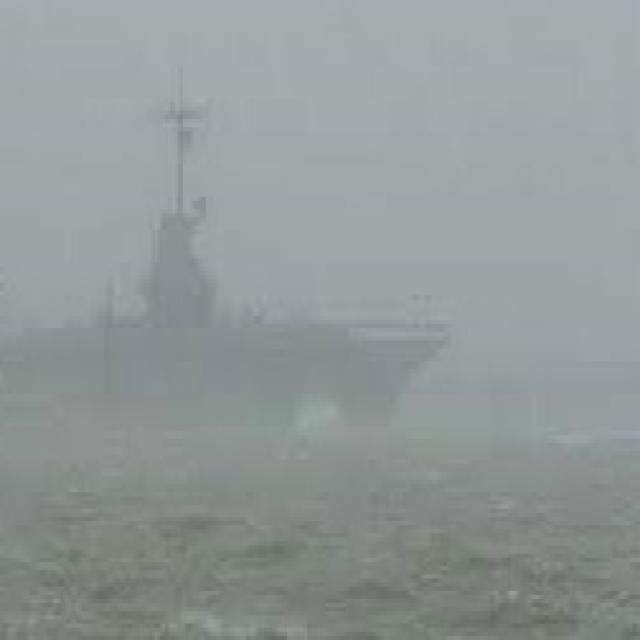navalvessels: (44, 78, 430, 466)
